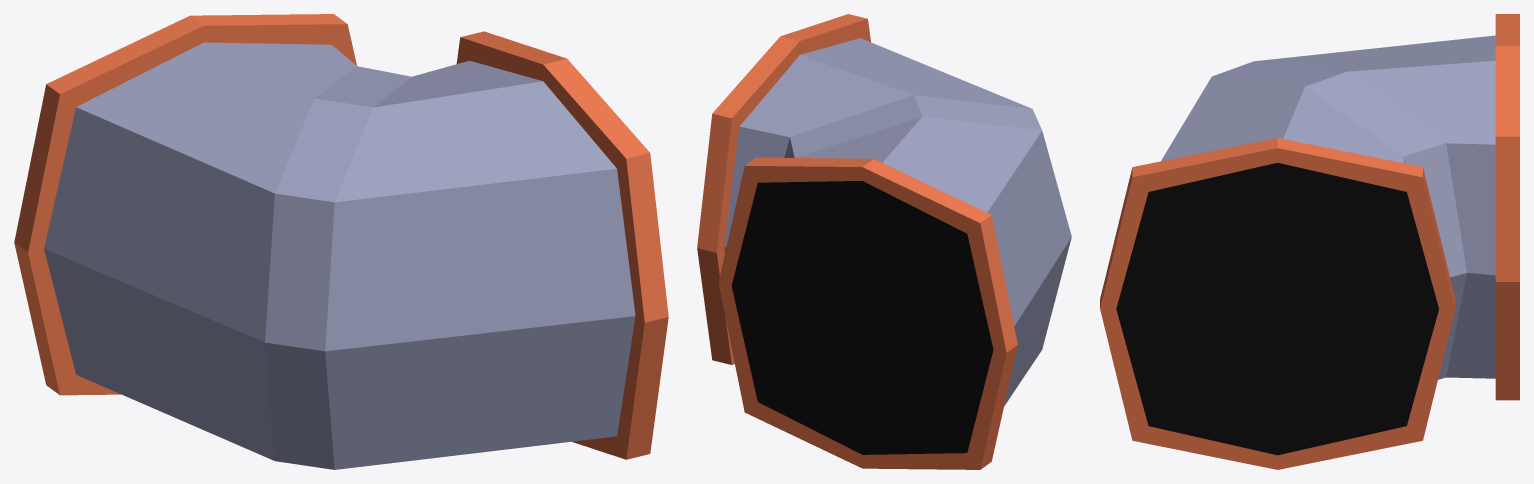
File: ConnectorNode_L.fbx
3 renders of one model, left to right at view 1: azimuth 30°, elevation 25°; view 2: azimuth 150°, elevation 25°; view 3: azimuth 270°, elevation 25°, orthographic. The views are drawn at different scales.
Visible parts, largest first — view 1: Connector_L_LOD0; view 2: Connector_L_LOD0; view 3: Connector_L_LOD0.
Boxes of the visible parts, <box> form: Connector_L_LOD0: <box>14,14,668,469</box>; Connector_L_LOD0: <box>697,14,1071,469</box>; Connector_L_LOD0: <box>1100,14,1519,469</box>.
Size of what is drawn, in the model's own units: 259 by 220 by 260.
